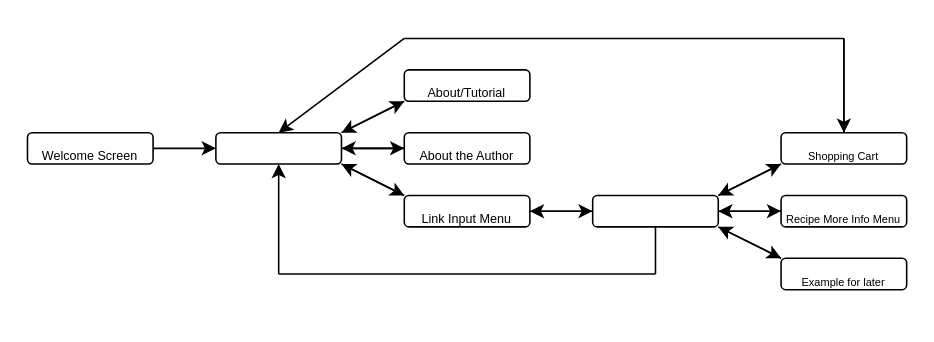
This 934x342 diagram has some shape labels left out. Here are the shapes that lost their labels. From the top down, the centre of each, then its label:
At point 277,147: "Top Menu".
At point 654,210: "Scraped Listicle Menu".
